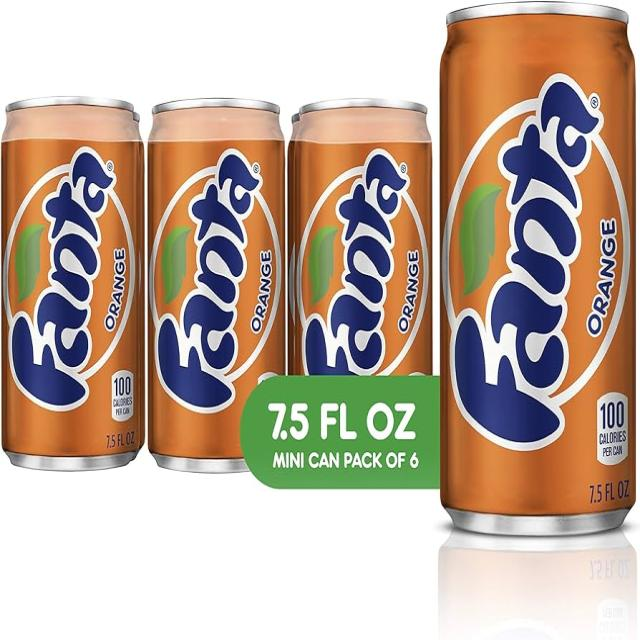fanta: (437, 14, 640, 540), (291, 99, 452, 480), (141, 95, 288, 480), (2, 99, 145, 473)
